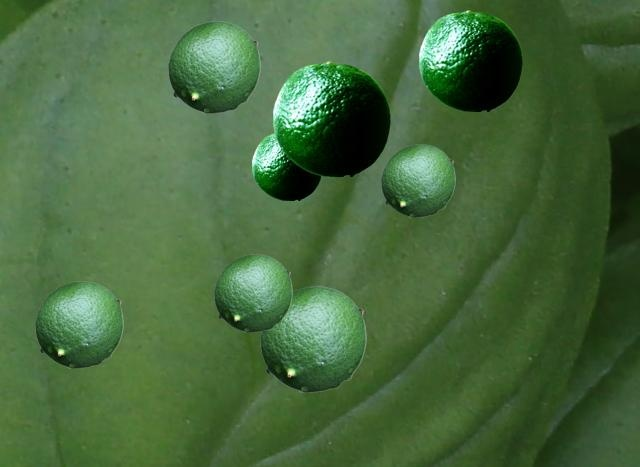calamansi: (273, 61, 389, 175), (260, 286, 365, 391), (419, 10, 521, 110), (168, 21, 259, 112), (35, 281, 122, 367), (214, 254, 291, 331), (381, 144, 454, 216), (252, 133, 321, 199)
